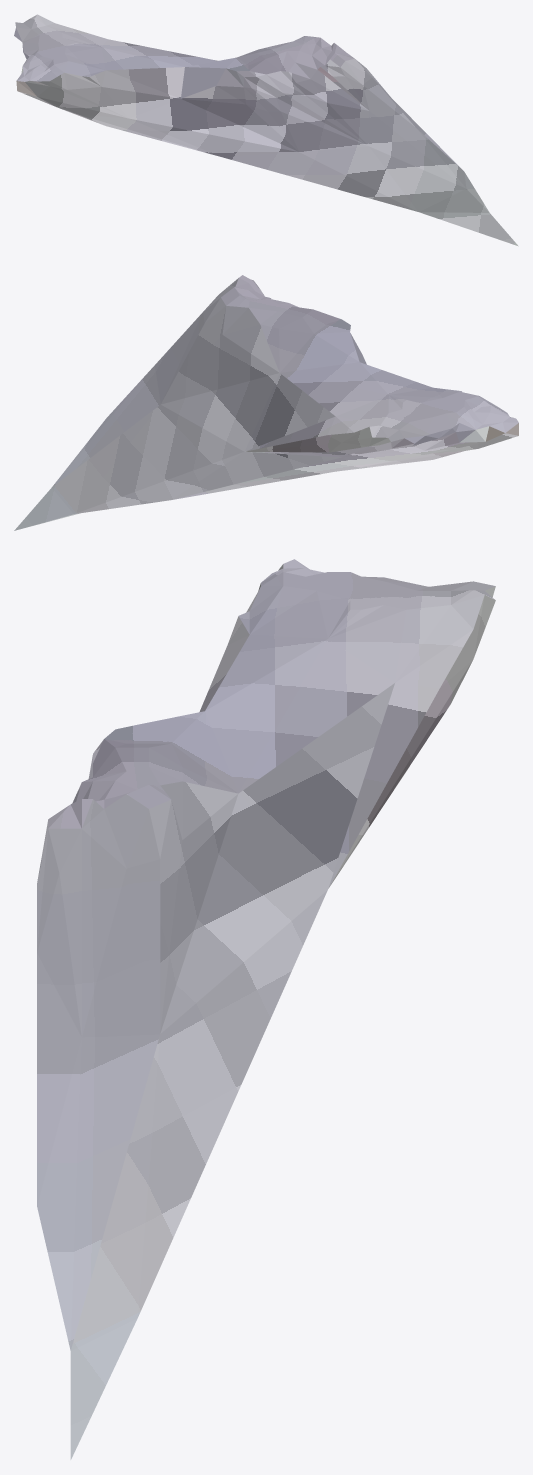
3 renders of one model, top to bottom at view 1: azimuth 30°, elevation 25°; view 2: azimuth 150°, elevation 25°; view 3: azimuth 270°, elevation 25°, orthographic. The views are drawn at different scales.
Size of the model in its own units: 0.177 by 0.0943 by 0.0789.
Materials: 1 (1 with a texture image).
